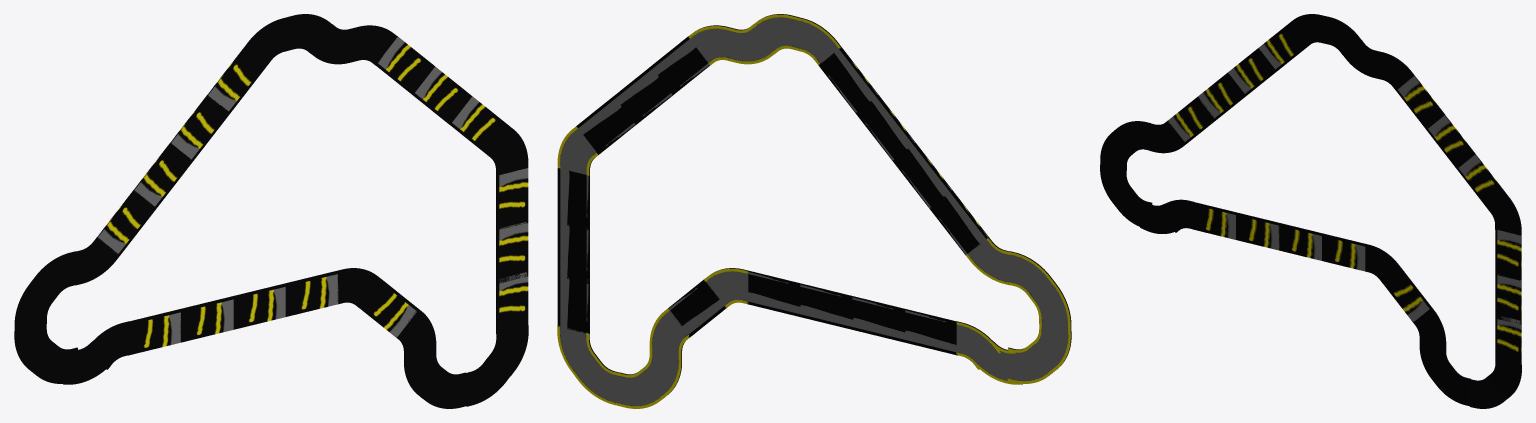
File: track.dae
3 renders of one model, left to right at view 1: azimuth 30°, elevation 25°; view 2: azimuth 150°, elevation 25°; view 3: azimuth 330°, elevation 25°, orthographic. The views are drawn at different scales.
Parts seen in each view (by area): view 1: Cube (×2), Cube.004, Cube.023, Cube.022, Cube.017, Cube.025, Cube.024, Cube.012, Cube.011, Cube.014, Cube.016, Cube.015 (+20 smaller); view 2: Cube (×2), Cube.017, Cube.022, Cube.024, Cube.023, Cube.004, Cube.012, Cube.025, Cube.014, Cube.011, Cube.016, Cube.015 (+20 smaller); view 3: Cube (×2), Cube.014, Cube.004, Cube.015, Cube.016, Cube.002, Cube.012, Cube.017, Cube.024, Cube.023, Cube.001, Cube.022 (+20 smaller).
Boxes of the visible parts, x1,y1,x2,y2 form: Cube (×2): (128, 296, 233, 355); Cube.004: (285, 271, 338, 316); Cube.023: (170, 94, 230, 160); Cube.022: (207, 47, 267, 112); Cube.017: (232, 283, 285, 329); Cube.025: (97, 190, 155, 255); Cube.024: (134, 142, 192, 208); Cube.012: (496, 168, 528, 230); Cube.011: (496, 222, 528, 283); Cube.014: (450, 96, 509, 154); Cube.016: (376, 36, 434, 94); Cube.015: (413, 66, 472, 124); Cube (×2): (852, 296, 957, 355); Cube.017: (800, 283, 853, 329); Cube.022: (818, 47, 878, 113); Cube.024: (893, 142, 951, 208); Cube.023: (856, 94, 915, 160); Cube.004: (747, 271, 800, 316); Cube.012: (557, 168, 589, 230); Cube.025: (929, 190, 988, 255); Cube.014: (576, 96, 635, 154); Cube.011: (557, 221, 589, 283); Cube.016: (651, 36, 709, 94); Cube.015: (613, 66, 672, 124); Cube (×2): (1192, 202, 1279, 250); Cube.014: (1457, 154, 1506, 208); Cube.004: (1322, 233, 1365, 271); Cube.015: (1426, 115, 1475, 168); Cube.016: (1396, 75, 1445, 129); Cube.002: (1383, 268, 1430, 321); Cube.012: (1495, 229, 1521, 280); Cube.017: (1278, 223, 1322, 260); Cube.024: (1198, 72, 1245, 120); Cube.023: (1228, 48, 1276, 95); Cube.001: (1495, 314, 1521, 365); Cube.022: (1258, 24, 1306, 70).
Bounding box in the file's own units: 195 × 0.8876 × 157.
